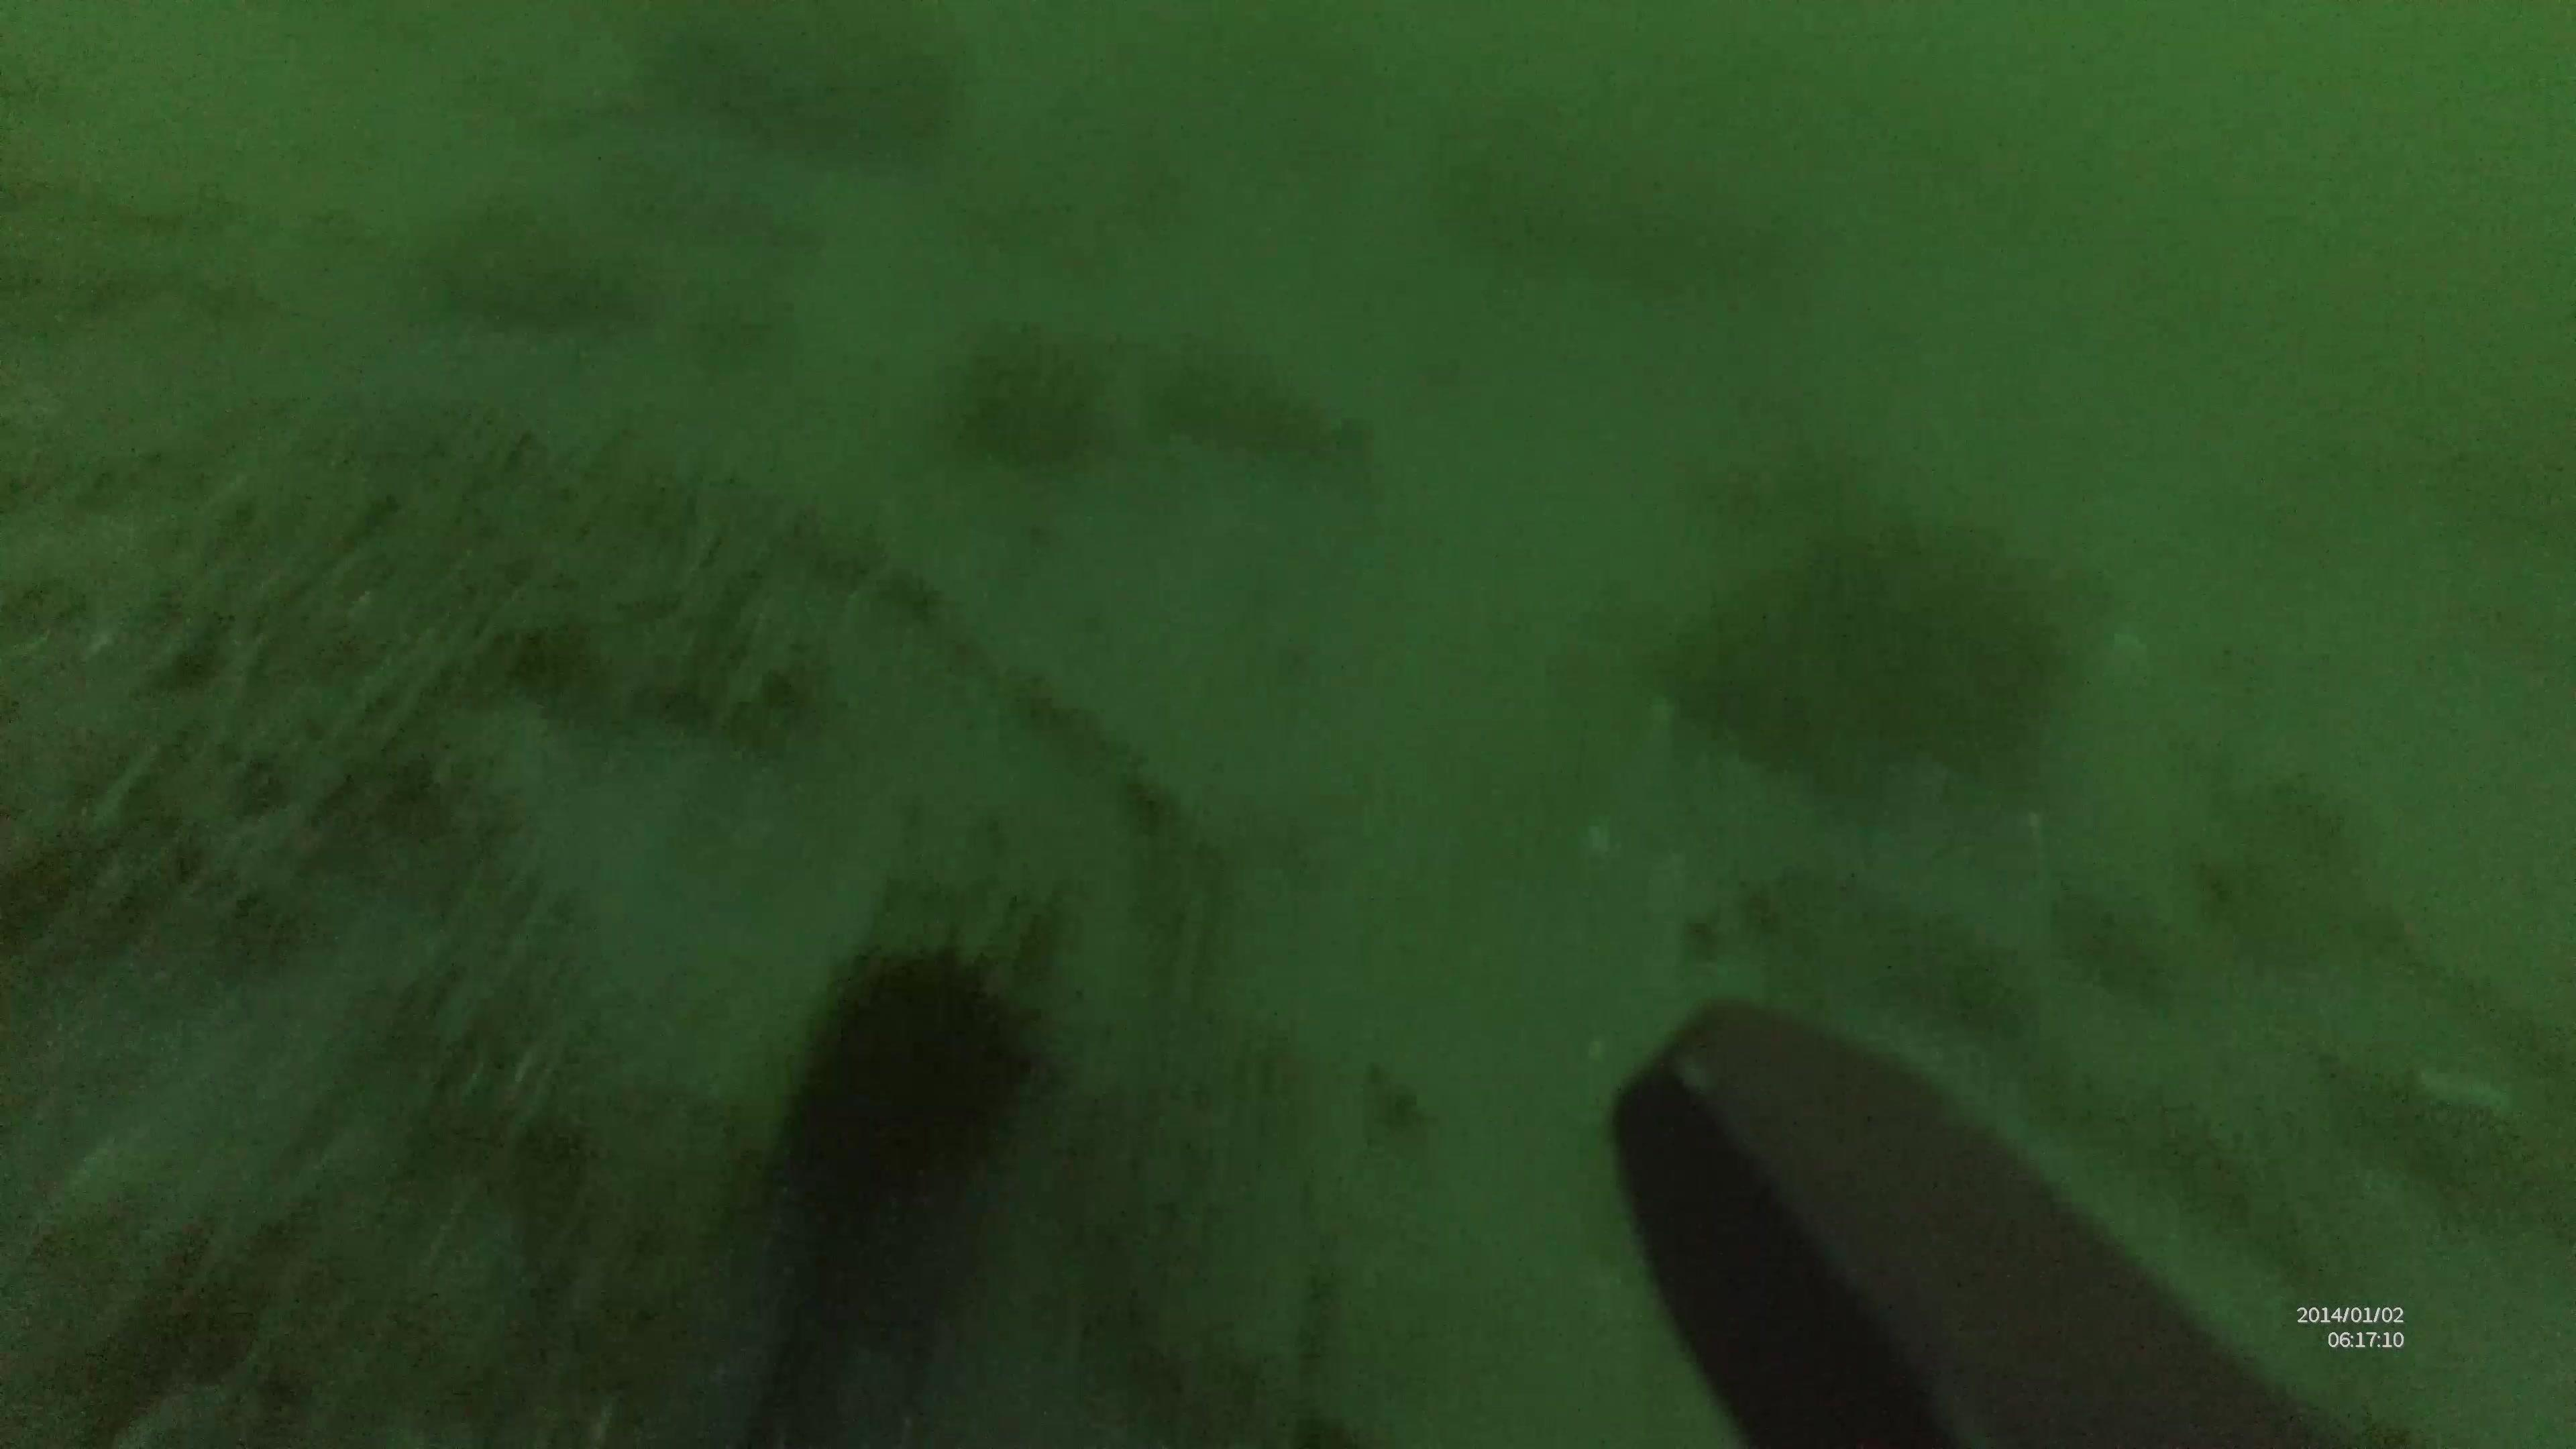echinus: (789, 941, 1054, 1189)
